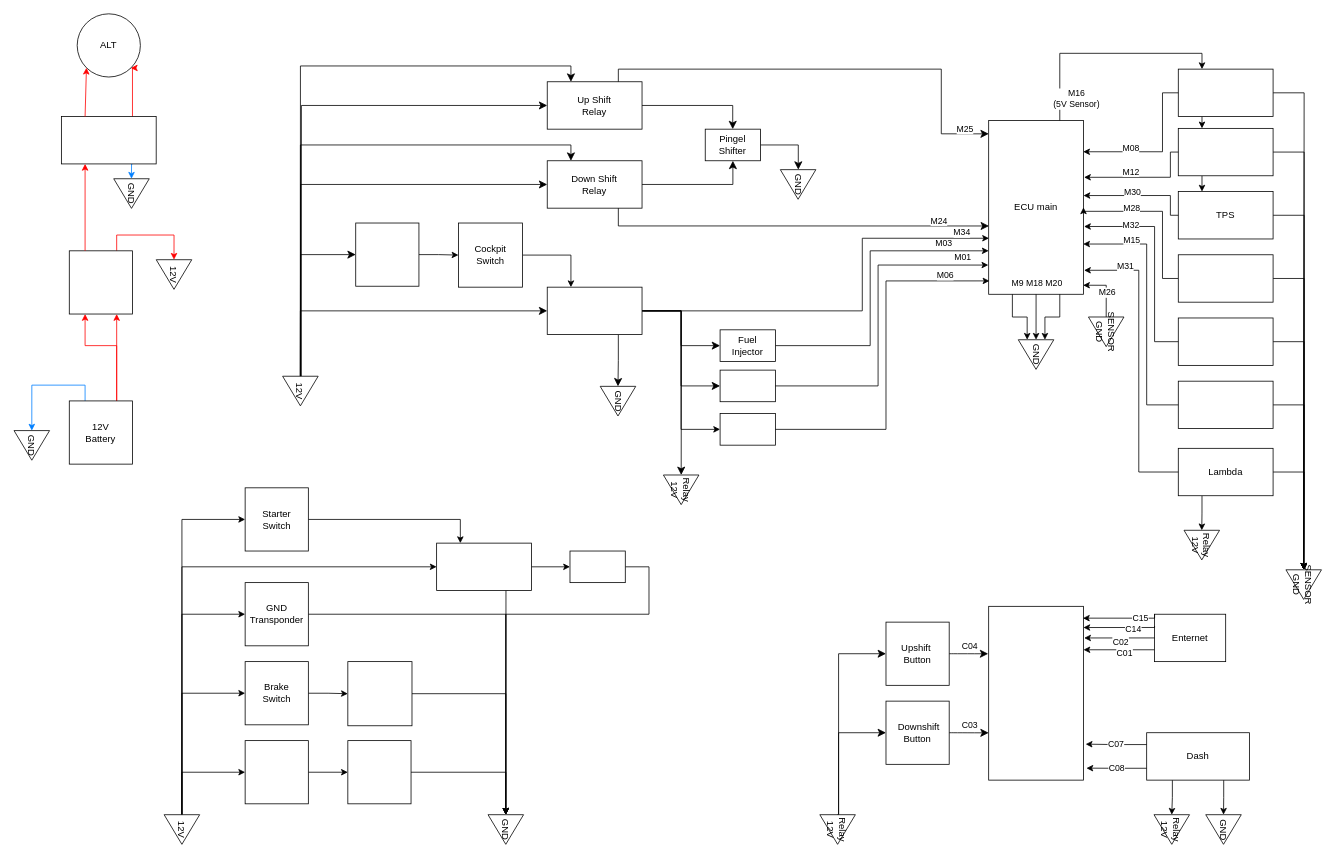
This 1335x859 diagram has some shape labels left out. Here are the shapes that lost their labels. From the top down, the centre of each, then its label:
the point at 1225,92: Fuel Pressure
the point at 108,140: Regulator Rectifier
the point at 1225,152: MAP
the point at 387,254: BOTS
the point at 100,282: Main switch
the point at 1225,278: IAT
the point at 594,310: Main Relay
the point at 1225,341: Trigger
the point at 747,385: Ignition Coil
the point at 1225,404: Coolant
the point at 747,429: Fuel Pump
the point at 483,566: Starter Relay
the point at 597,566: Starter Motor
the point at 379,693: Brake Light
the point at 1035,693: ECU AUX
the point at 276,772: Neutral Light
the point at 379,772: Neutral Switch
